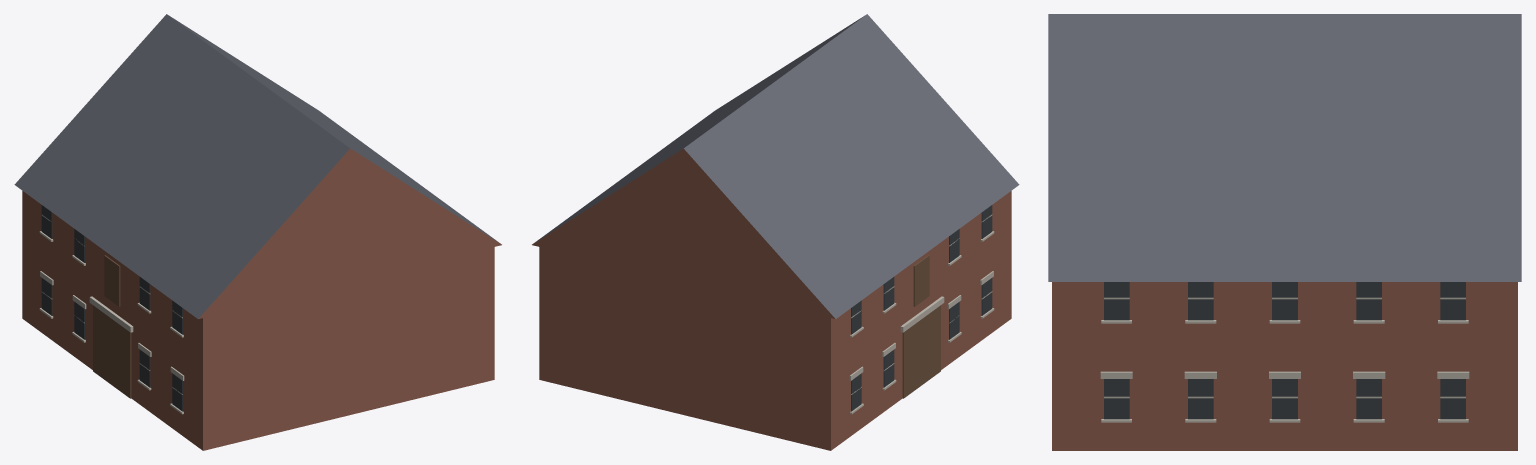
Rendered from goodman_house_1612_prairie_coach_house__draft_1904.glb.
3 views of the same model, side by side, from view 1: azimuth 30°, elevation 25°; view 2: azimuth 150°, elevation 25°; view 3: azimuth 270°, elevation 25° (orthographic). The views are drawn at different scales.
Visible parts, largest first — view 1: goodman_house_1612_prairie_coach_house__draft_1904; view 2: goodman_house_1612_prairie_coach_house__draft_1904; view 3: goodman_house_1612_prairie_coach_house__draft_1904.
Boxes of the visible parts, box(x1,y1,x2,y2) form: goodman_house_1612_prairie_coach_house__draft_1904: box(14, 14, 501, 450); goodman_house_1612_prairie_coach_house__draft_1904: box(532, 14, 1019, 450); goodman_house_1612_prairie_coach_house__draft_1904: box(1048, 14, 1521, 450).
Bounding box in the file's own units: 14.1 × 11.86 × 14.74.
